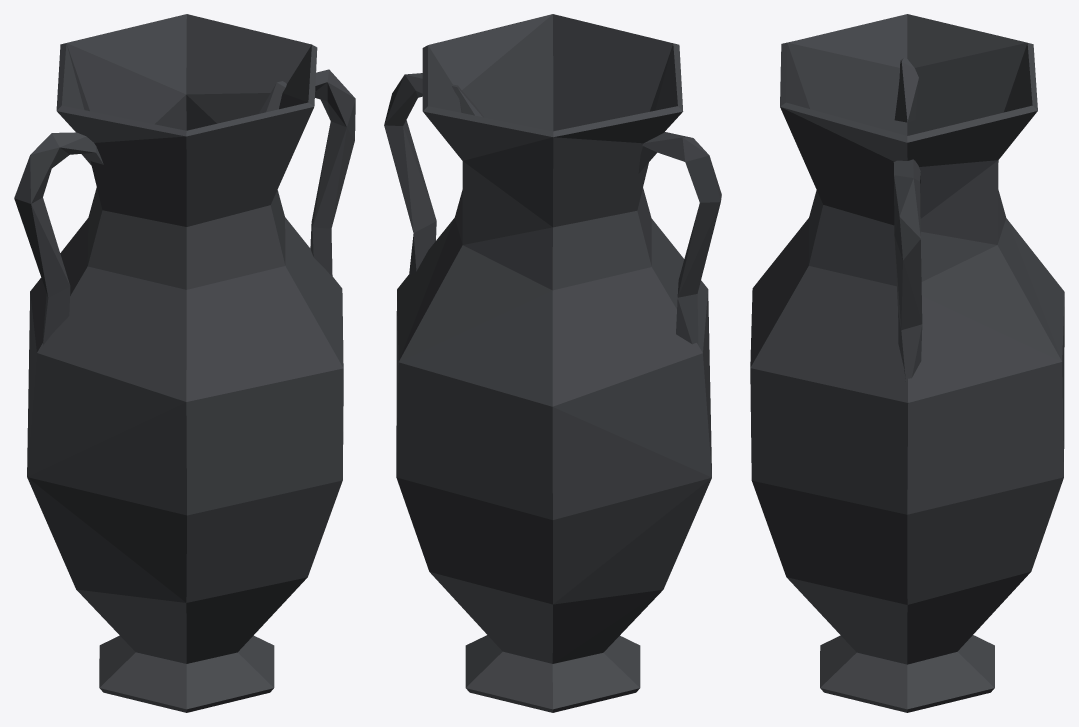
Rendered from Jar.fbx.
3 views of the same model, side by side, from view 1: azimuth 30°, elevation 25°; view 2: azimuth 150°, elevation 25°; view 3: azimuth 270°, elevation 25° (orthographic).
Visible parts, largest first — view 1: Jar; view 2: Jar; view 3: Jar.
Boxes of the visible parts, box(x1,y1,x2,y2) form: Jar: box(14, 14, 355, 712); Jar: box(384, 14, 721, 712); Jar: box(750, 14, 1064, 712).
Size of the model in its own units: 50.57 by 86.25 by 40.94.
